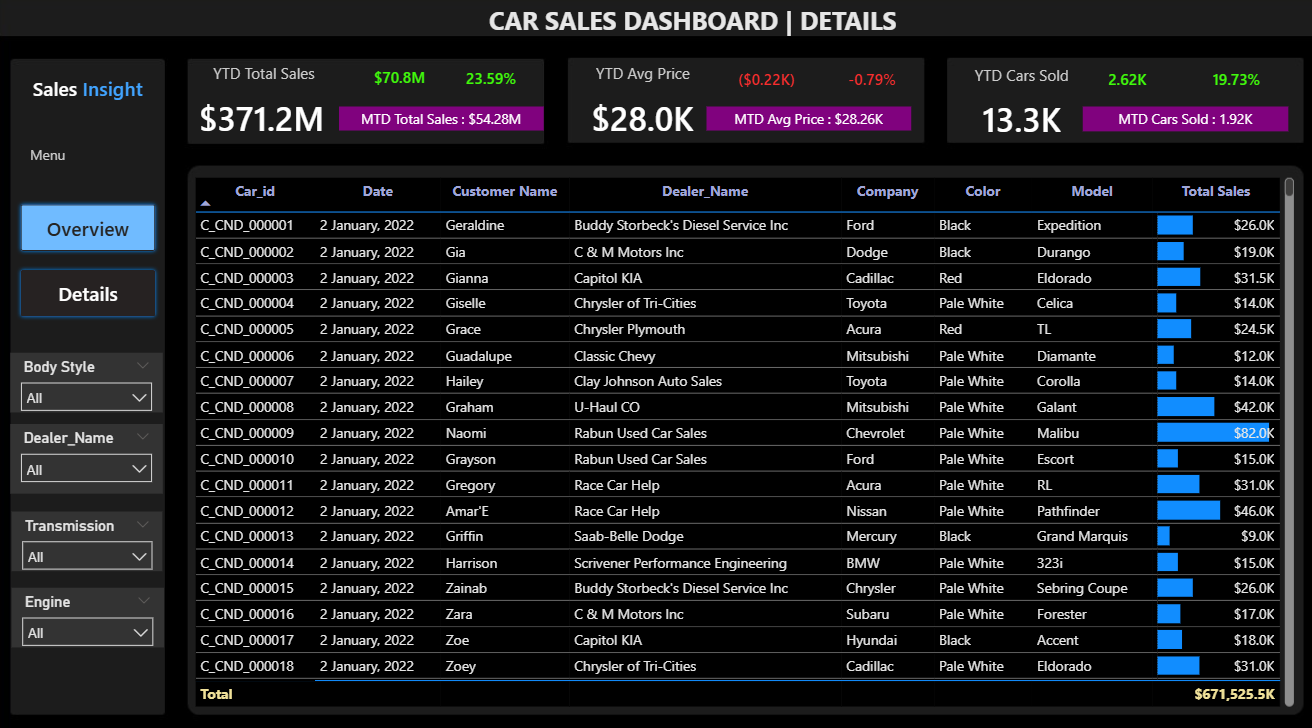

What the dashboard file says about the page in this screenshot:
{"tool":"powerbi","page":{"name":"Details","canvas":[1280,720],"ordinal":1},"visuals":[{"type":"cardVisual","title":"YTD Total Sales","fields":{"Data":["car_data.YTD Total Sales"]},"box":[168.9,66.4,183.4,83.2],"z":0},{"type":"cardVisual","title":"YTD Total Sales","fields":{"Data":["car_data.Sales Difference"]},"box":[338,51,109,57],"z":1000},{"type":"cardVisual","title":"YTD Total Sales","fields":{"Data":["car_data.YOY Sales Growth"]},"box":[425.7,51.4,108.6,57.1],"z":2000},{"type":"cardVisual","title":"YTD Avg Price","fields":{"Data":["car_data.YTD Avg Price"]},"box":[535,66.2,183.8,83.8],"z":3000},{"type":"cardVisual","title":"YTD Total Sales","fields":{"Data":["car_data.Avg Price Diff"]},"box":[687.5,52.5,116.2,56.2],"z":4000},{"type":"cardVisual","title":"YTD Total Sales","fields":{"Data":["car_data.YoY Avg Price Growth"]},"box":[795,52.5,105,57.5],"z":5000},{"type":"cardVisual","fields":{"Data":["car_data.MDI Avg Price KPI"]},"box":[687.5,109.2,197.5,23.3],"z":6000},{"type":"cardVisual","fields":{"Data":["car_data.MDI KPI"]},"box":[333.3,109.2,197.5,23.3],"z":7000},{"type":"cardVisual","title":"YTD Cars Sold","fields":{"Data":["car_data.YTD Cars Sold"]},"box":[900,67.5,184.2,83.3],"z":8000},{"type":"cardVisual","title":"YTD Total Sales","fields":{"Data":["car_data.Cars Sold Diff"]},"box":[1050.9,60,86.4,40],"z":9000},{"type":"cardVisual","title":"YTD Total Sales","fields":{"Data":["car_data.YoY Cars Sold Growth"]},"box":[1150,60,99.1,40],"z":10000},{"type":"cardVisual","fields":{"Data":["car_data.MTD Cars Sold KPI"]},"box":[1050.9,109.1,198.2,23.6],"z":11000},{"type":"textbox","box":[451.2,4.8,446.4,45.8],"z":12000},{"type":"slicer","fields":{"Values":["car_data.Body Style"]},"box":[15.7,346.2,147.2,57.9],"z":13000},{"type":"slicer","fields":{"Values":["car_data.Dealer_Name"]},"box":[15.7,415,147.2,67.6],"z":14000},{"type":"slicer","fields":{"Values":["car_data.Transmission"]},"box":[16.9,499.5,146,57.9],"z":15000},{"type":"slicer","fields":{"Values":["car_data.Engine"]},"box":[16.9,573.1,147.2,57.9],"z":16000},{"type":"tableEx","fields":{"Values":["car_data.Car_id","car_data.Date","car_data.Customer Name","car_data.Dealer_Name","car_data.Company","car_data.Color","car_data.Model","car_data.Total Sales"]},"box":[188.2,172.5,1071.3,520],"z":17000},{"type":"textbox","box":[26.5,73.6,127.9,35],"z":17001},{"type":"textbox","box":[26.5,141.2,50.7,31.4],"z":17002},{"type":"pageNavigator","box":[21.7,199.1,138.7,117],"z":17003}]}

Visuals, with their boxes in screenshot pixels (x1, y1, x2, y2), scaled from the page's 1280x720 canvas onto the 1312x728 screenshot:
"YTD Total Sales" cardVisual: (left=173, top=67, right=361, bottom=151)
"YTD Total Sales" cardVisual: (left=346, top=52, right=458, bottom=109)
"YTD Total Sales" cardVisual: (left=436, top=52, right=548, bottom=110)
"YTD Avg Price" cardVisual: (left=548, top=67, right=737, bottom=152)
"YTD Total Sales" cardVisual: (left=705, top=53, right=824, bottom=110)
"YTD Total Sales" cardVisual: (left=815, top=53, right=922, bottom=111)
cardVisual - car_data.MDI Avg Price KPI: (left=705, top=110, right=907, bottom=134)
cardVisual - car_data.MDI KPI: (left=342, top=110, right=544, bottom=134)
"YTD Cars Sold" cardVisual: (left=922, top=68, right=1111, bottom=152)
"YTD Total Sales" cardVisual: (left=1077, top=61, right=1166, bottom=101)
"YTD Total Sales" cardVisual: (left=1179, top=61, right=1280, bottom=101)
cardVisual - car_data.MTD Cars Sold KPI: (left=1077, top=110, right=1280, bottom=134)
textbox: (left=462, top=5, right=920, bottom=51)
slicer - car_data.Body Style: (left=16, top=350, right=167, bottom=409)
slicer - car_data.Dealer_Name: (left=16, top=420, right=167, bottom=488)
slicer - car_data.Transmission: (left=17, top=505, right=167, bottom=564)
slicer - car_data.Engine: (left=17, top=579, right=168, bottom=638)
tableEx - car_data.Car_id x car_data.Date: (left=193, top=174, right=1291, bottom=700)
textbox: (left=27, top=74, right=158, bottom=110)
textbox: (left=27, top=143, right=79, bottom=175)
pageNavigator: (left=22, top=201, right=164, bottom=320)
